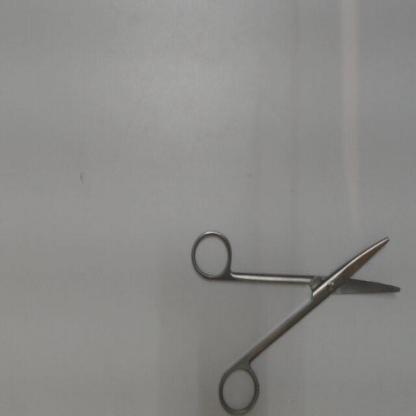Curved Mayo Scissors: (185, 223, 406, 413)
